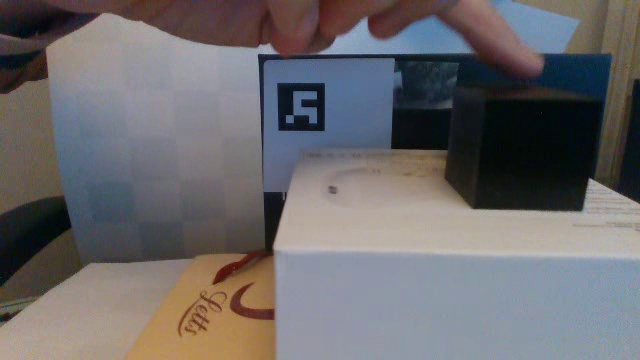cube: (439, 79, 606, 218)
